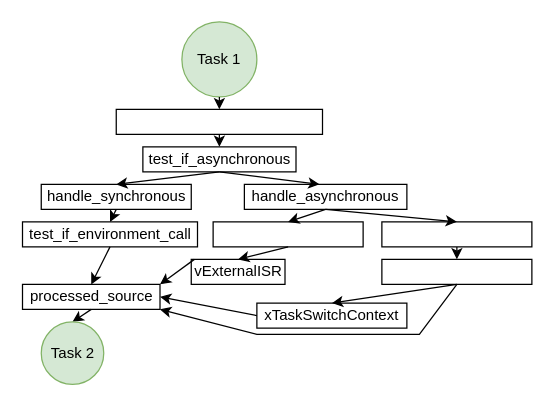
The diagram is 554 pixels wide and 406 high, and some of its shapes have lost their labels. Each missing label, with the centre of its shape:
"freertos_risc_v_trap_handler" goes at pixel 218 121.
"is_external_interrupt" goes at pixel 287 234.
"not_external_interrupt" goes at pixel 456 234.
"xTaskIncrementsTick" goes at pixel 456 271.
